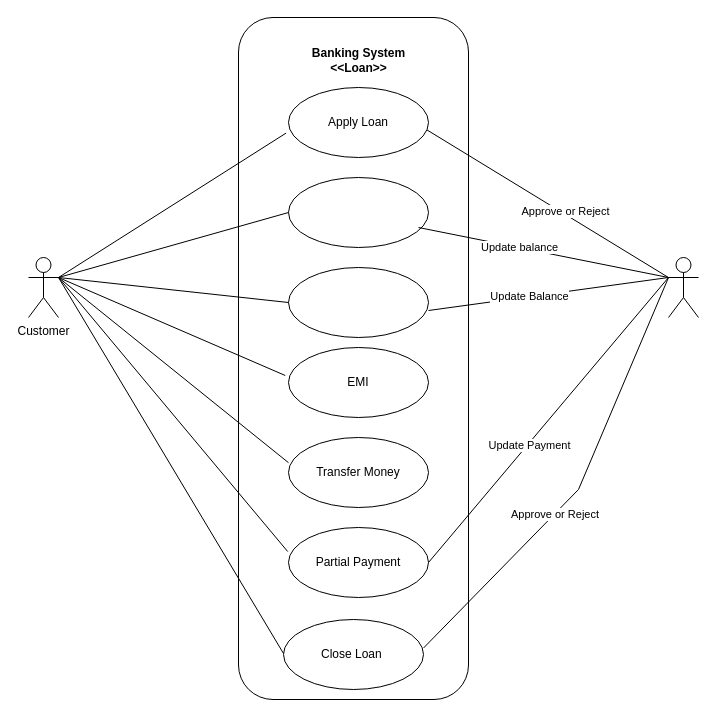
Some shapes in this 716 by 717 pixel diagram are drawn without their labels. The shapes that lost their labels are listed below. From the top down, each one's centre as x and y in pixels, then its label:
(358,212): Check Status
(358,302): Interest Rate
(683,287): Bank
